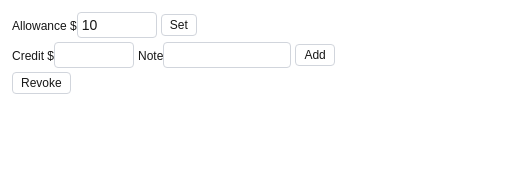
AccountActions › posts add_credit with a note after confirming, clears the boxes, then revoke after confirming (S4a, S4c)
Type "10" into the field labelled "Credit $".
click(94, 55); type("10")  # box [54,42,134,68]
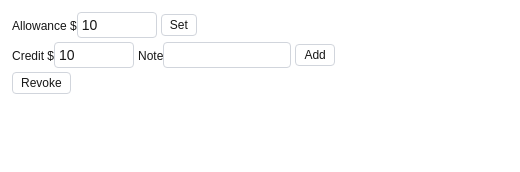
Type "invoice 12" into the field labelled "Note".
click(227, 55); type("invoice 12")  # box [163,42,291,68]
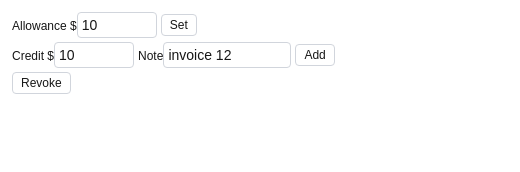
Click the button "Add".
click(315, 55)  # box [295,44,335,66]
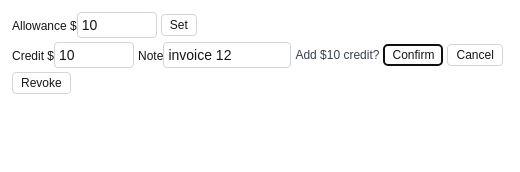
Now the text "Add $10 credit?" is shown, box [295,47,380,63]
Click the button "Confirm".
click(414, 55)  # box [384,44,444,66]
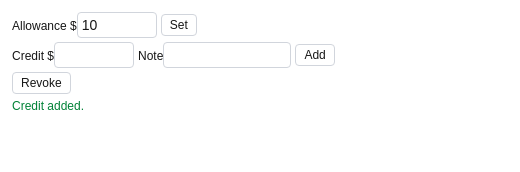
Now the message reads "Credit added.", box [12,99,84,113]
Now the field labelled "Credit $" is empty, box [54,42,134,68]
Now the field labelled "Note" is empty, box [163,42,291,68]
Click the button "Revoke".
click(41, 83)  # box [12,72,71,94]
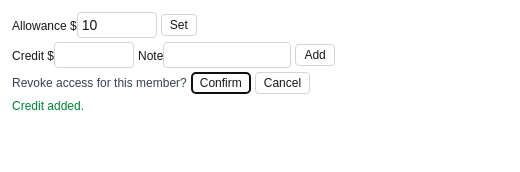
Click the button "Confirm".
click(221, 83)  # box [191,72,251,94]
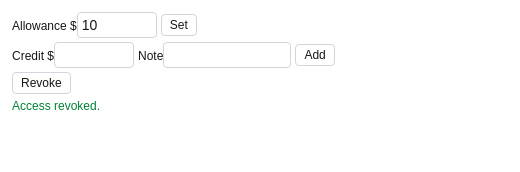
Now the message reads "Access revoked.", box [12,99,100,113]
